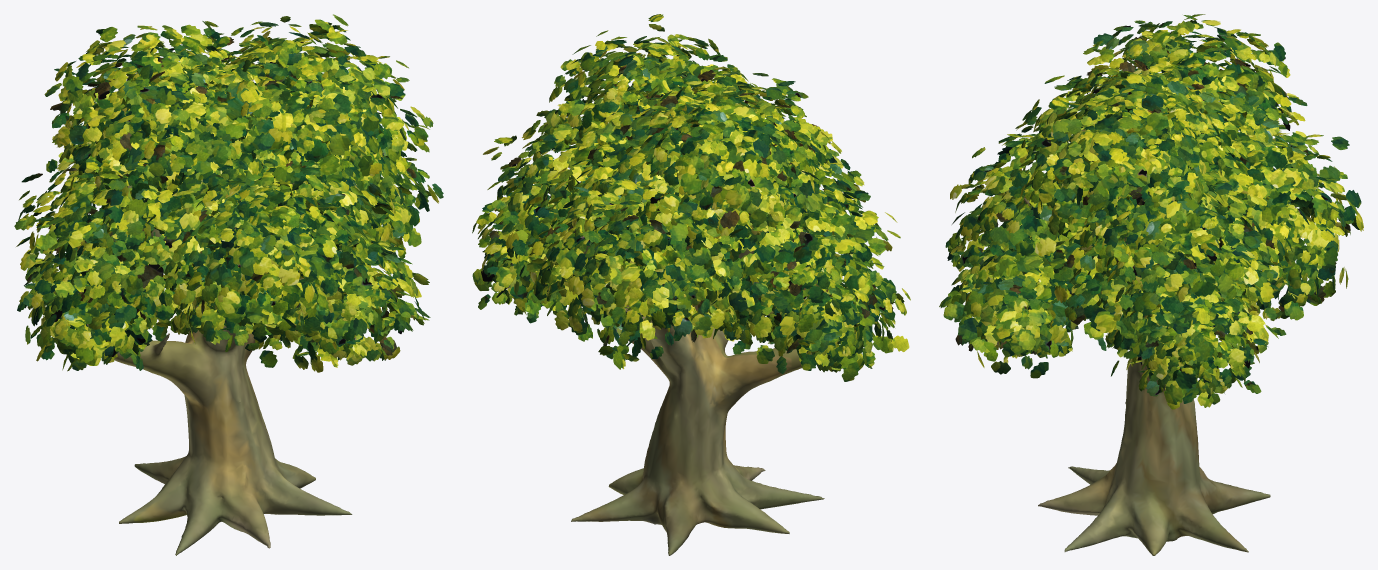
The model's file is painted_oak.glb.
The picture shows the model from 3 angles, left to right: view 1: azimuth 30°, elevation 25°; view 2: azimuth 150°, elevation 25°; view 3: azimuth 270°, elevation 25°; orthographic projection. The views are drawn at different scales.
Parts seen in each view (by area): view 1: Oak • 7460 individually curved painted leaves, Oak • continuous roots trunk and boughs; view 2: Oak • 7460 individually curved painted leaves, Oak • continuous roots trunk and boughs; view 3: Oak • 7460 individually curved painted leaves, Oak • continuous roots trunk and boughs.
Boxes of the visible parts, x1,y1,x2,y2 form: Oak • 7460 individually curved painted leaves: (14,14,443,372); Oak • continuous roots trunk and boughs: (87,141,352,555); Oak • 7460 individually curved painted leaves: (472,14,910,381); Oak • continuous roots trunk and boughs: (571,231,853,555); Oak • 7460 individually curved painted leaves: (939,14,1363,409); Oak • continuous roots trunk and boughs: (1023,189,1296,555).
Size of the model in its own units: 5.51 by 6.09 by 4.91.
2 materials, 1 textured.
